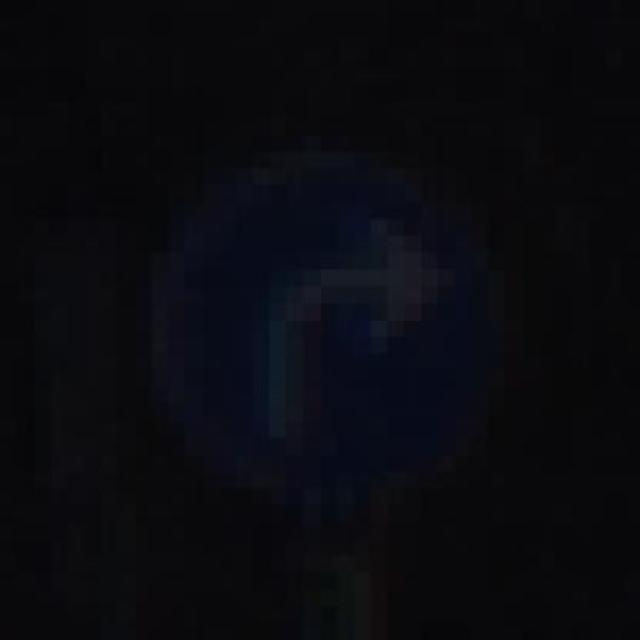Turn right ahead: (118, 118, 539, 522)
